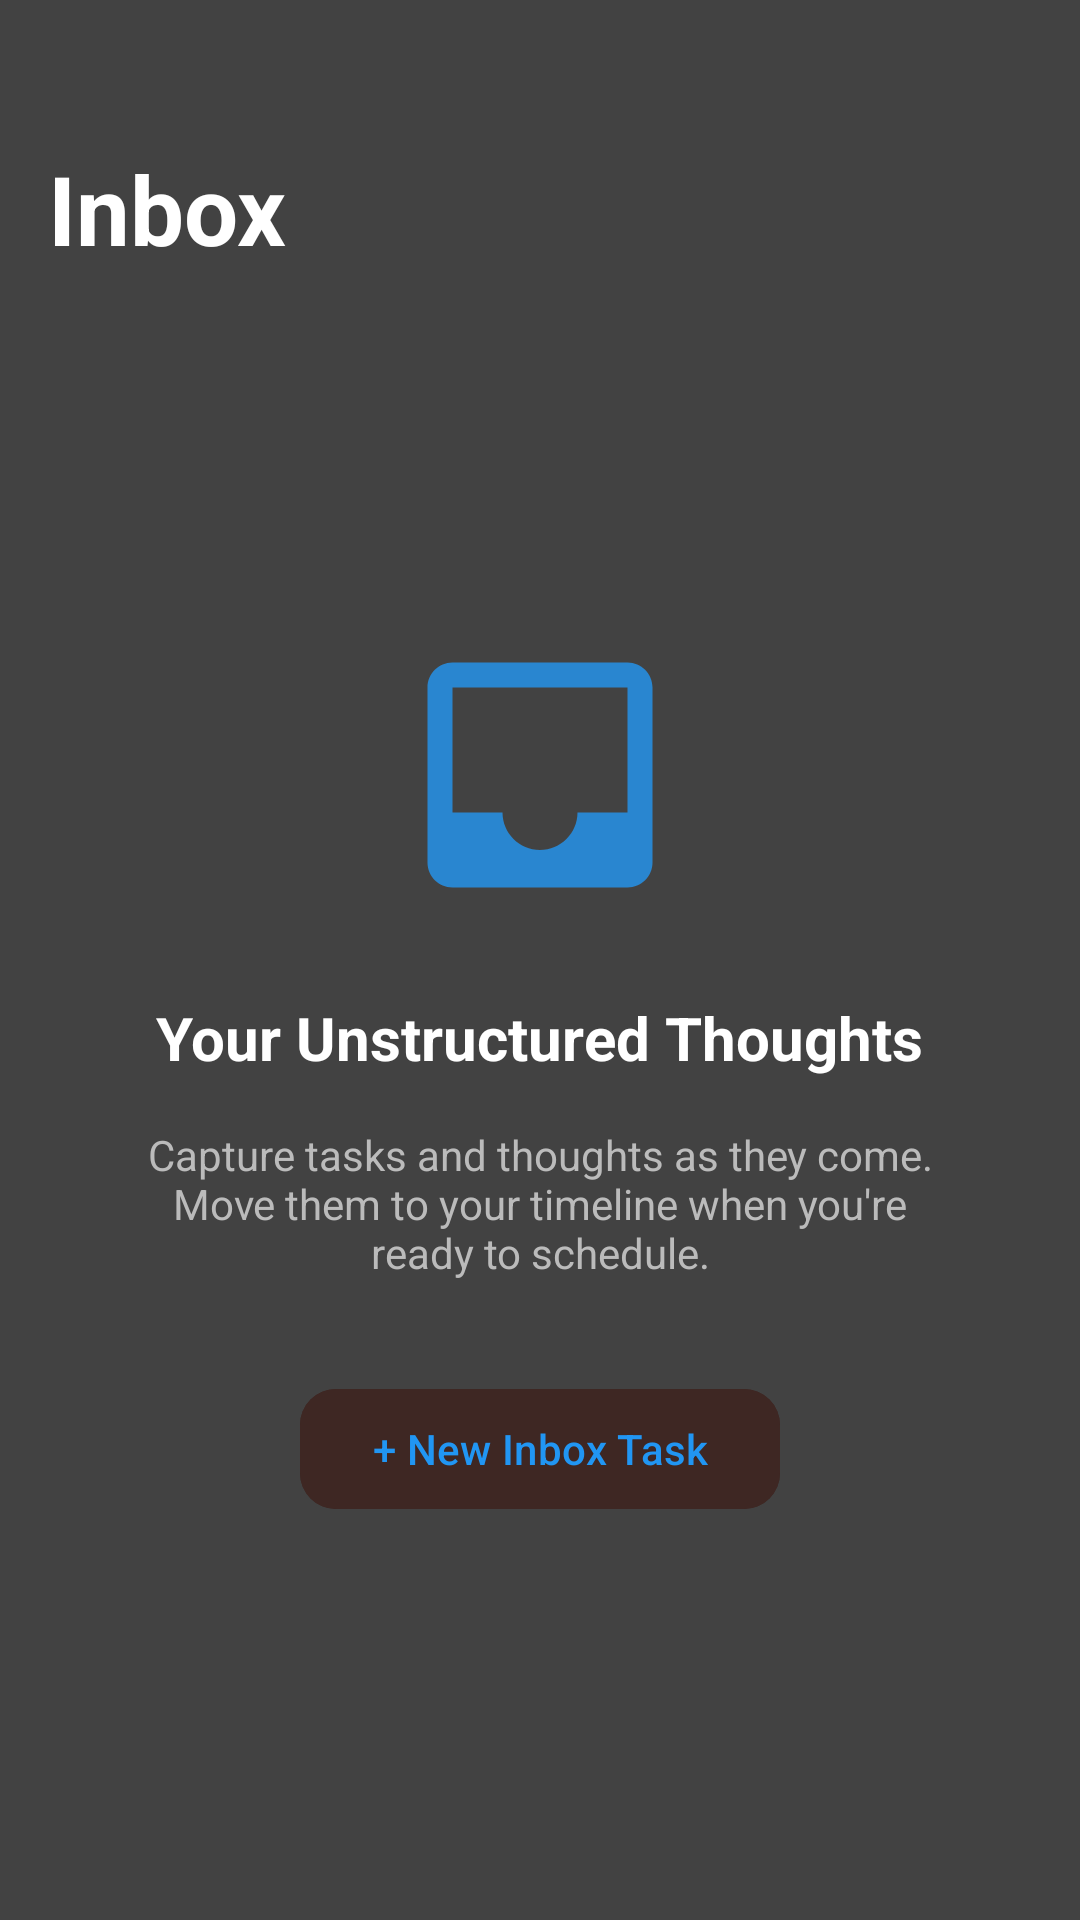

Icon click points for this 1080 × 1920 phone screenshot, format point (x, y):
Inbox: point (540, 775)
